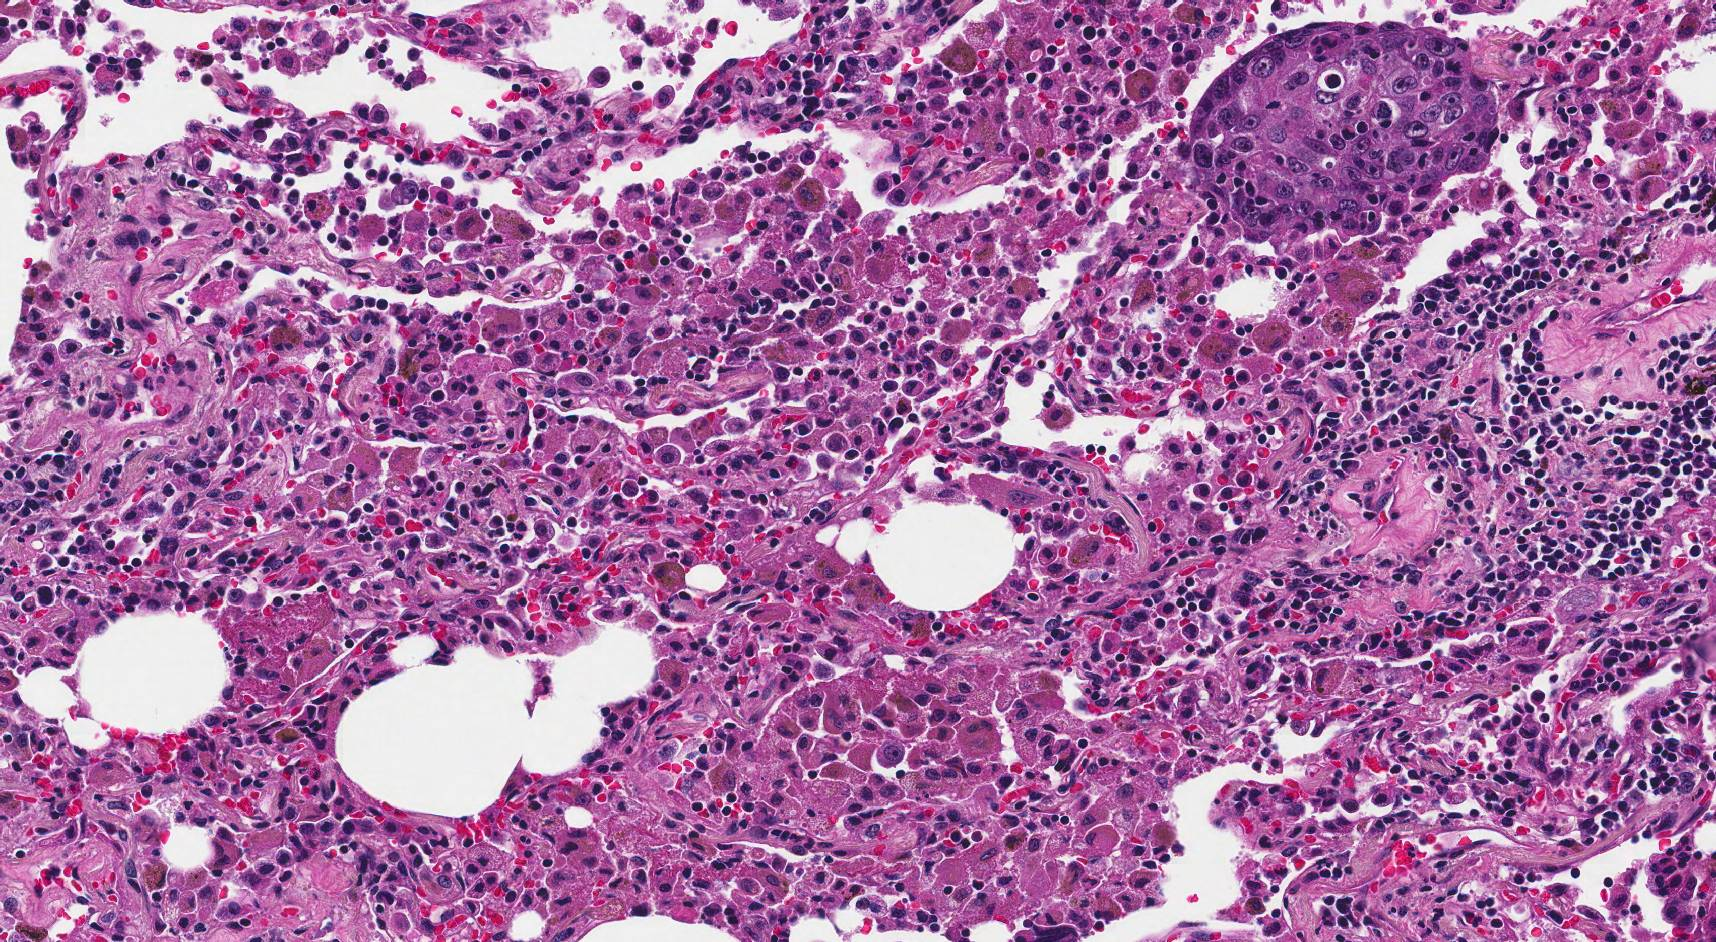stas: (1188, 20, 1499, 240)
